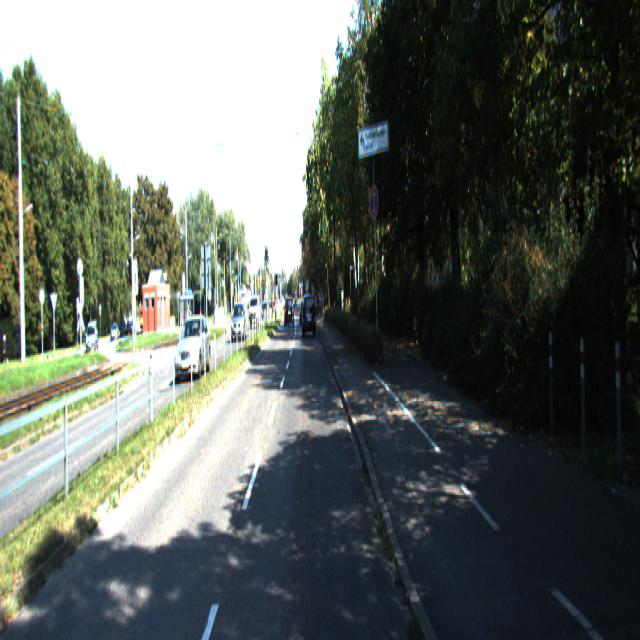Car: (175, 313, 212, 383), (231, 301, 247, 344), (302, 292, 316, 338)
